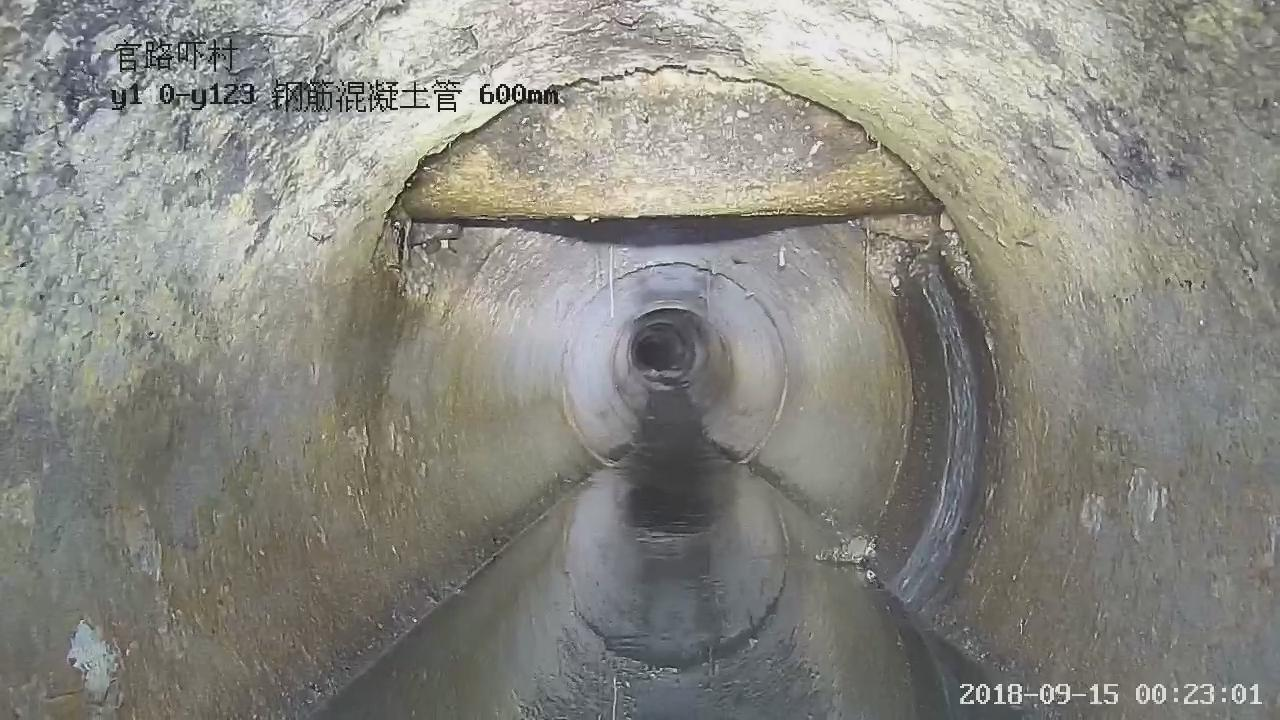YWCR: (400, 68, 937, 220)
